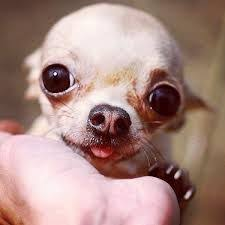chihuahua: (12, 2, 219, 204)
